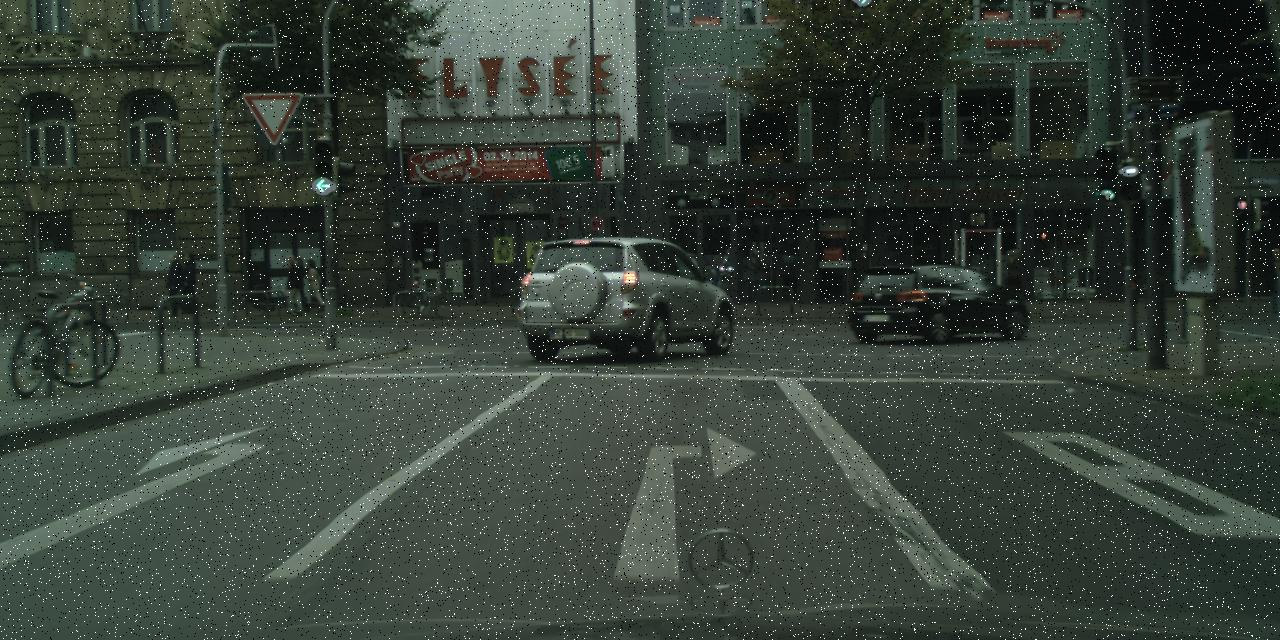ped: (164, 254, 188, 314), (177, 252, 201, 312), (300, 258, 322, 310), (285, 253, 304, 310), (1264, 248, 1278, 313), (285, 312, 290, 314)
